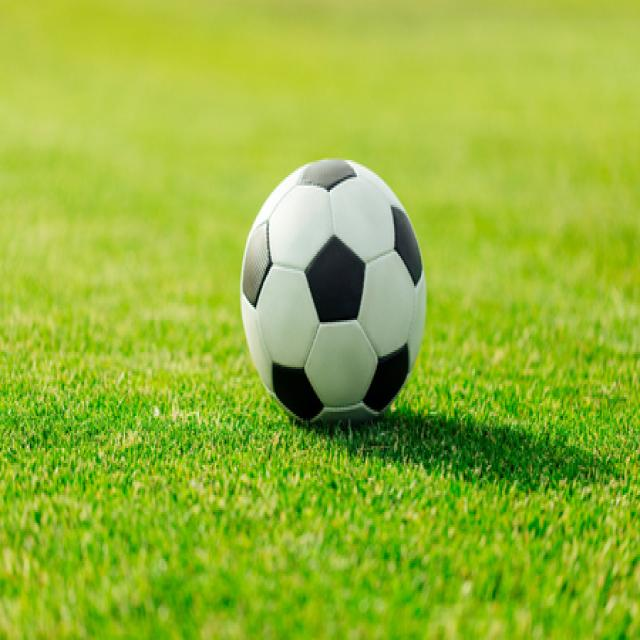soccer ball: (242, 156, 426, 424)
